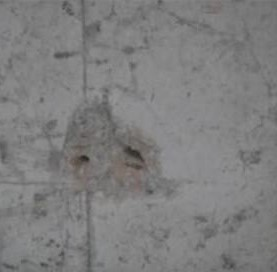Spalling: (59, 96, 181, 203), (123, 144, 146, 163), (76, 154, 90, 165)
